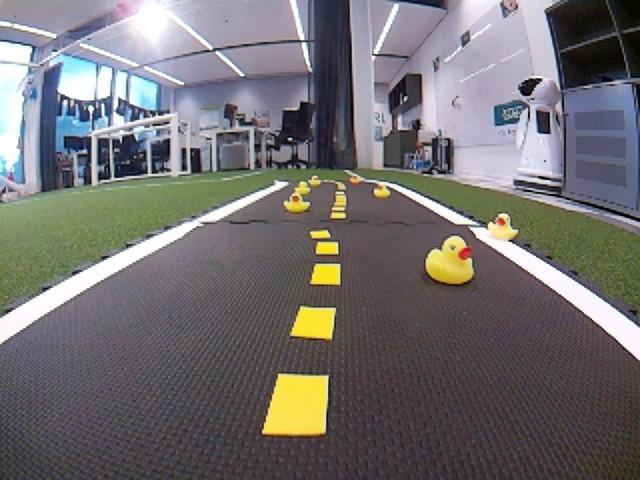Duckies: (425, 235, 473, 285), (489, 212, 520, 240), (283, 192, 310, 213), (372, 182, 392, 199), (295, 180, 311, 194), (308, 176, 320, 186), (349, 175, 362, 183)
